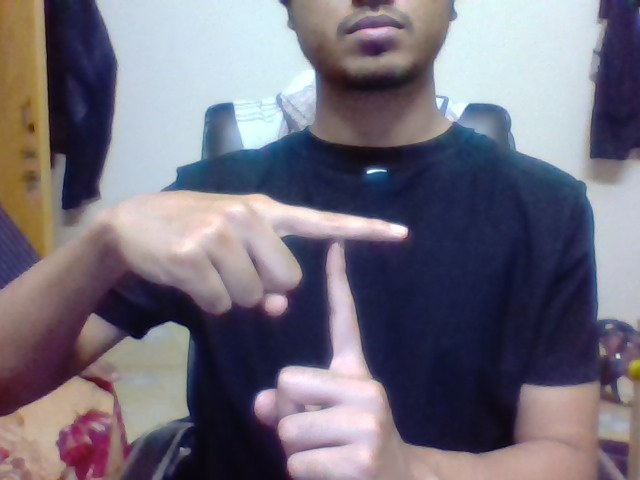T: (304, 194, 427, 360)
